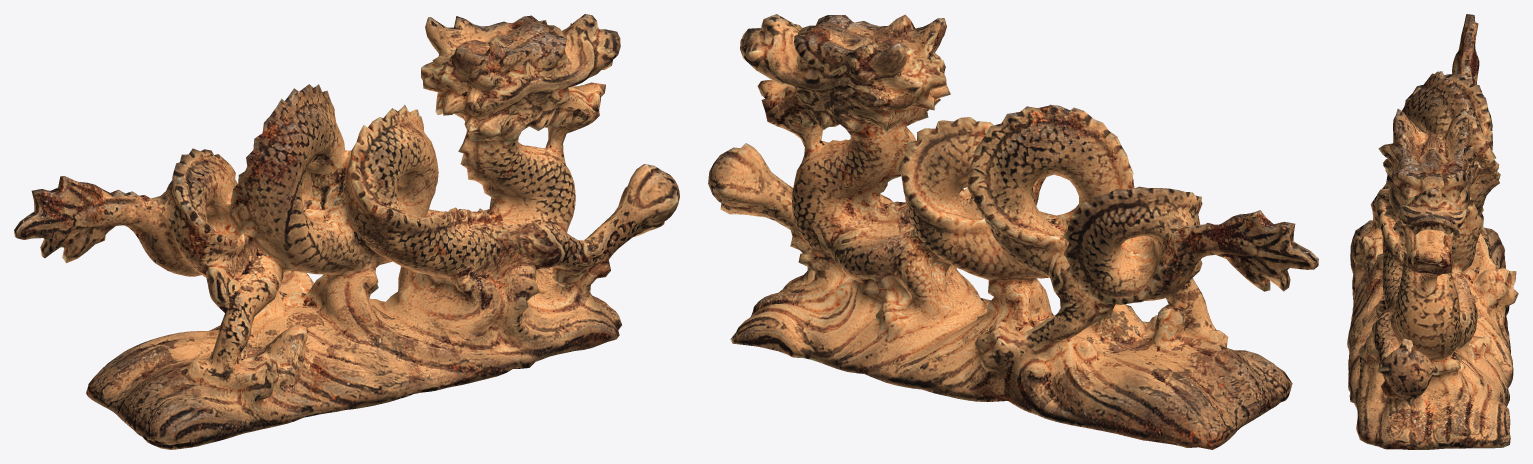
The model's file is SM_StatueDragon.FBX.
3 views of the same model, side by side, from view 1: azimuth 30°, elevation 25°; view 2: azimuth 150°, elevation 25°; view 3: azimuth 270°, elevation 25° (orthographic). The views are drawn at different scales.
Visible parts, largest first — view 1: SM_StatueDragon_LOD0; view 2: SM_StatueDragon_LOD0; view 3: SM_StatueDragon_LOD0.
Boxes of the visible parts, x1,y1,x2,y2 form: SM_StatueDragon_LOD0: (14, 14, 679, 449); SM_StatueDragon_LOD0: (708, 14, 1318, 449); SM_StatueDragon_LOD0: (1347, 14, 1518, 449).
Size of the model in its own units: 86.33 by 23.13 by 41.05.
